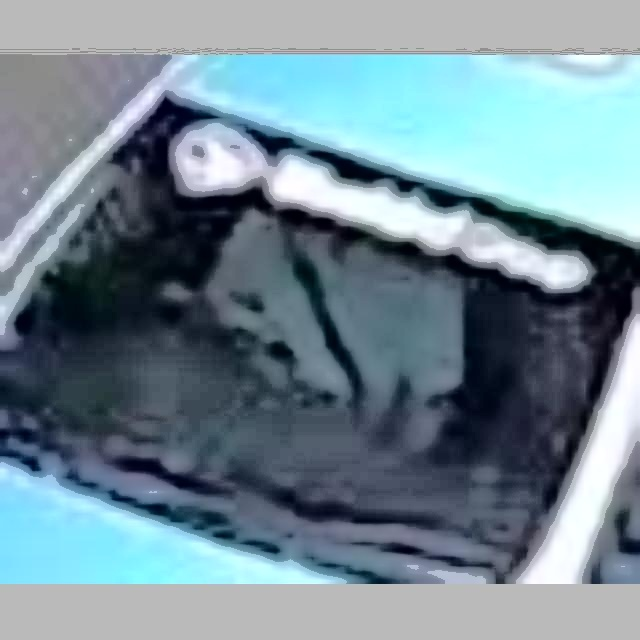pakai: (162, 173, 493, 452)
